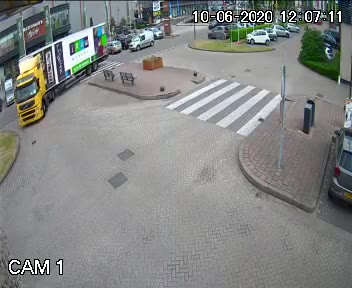car: (10, 20, 108, 127), (131, 27, 155, 54)
